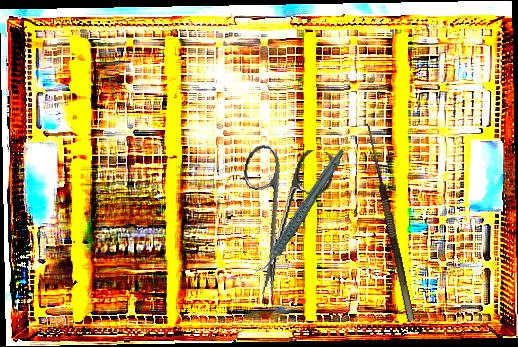Handpiece: (233, 147, 367, 276)
Hook Surgical: (355, 122, 415, 324)
Iris Scissors: (225, 140, 337, 302)
